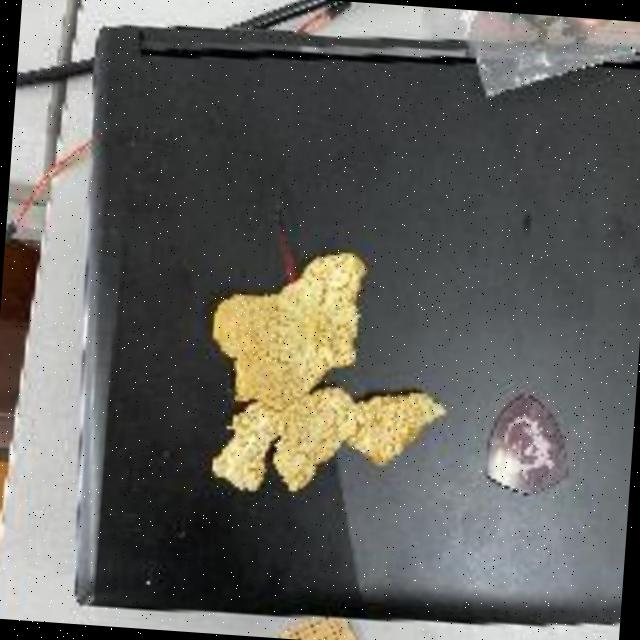orange-peel: (203, 222, 442, 520)
